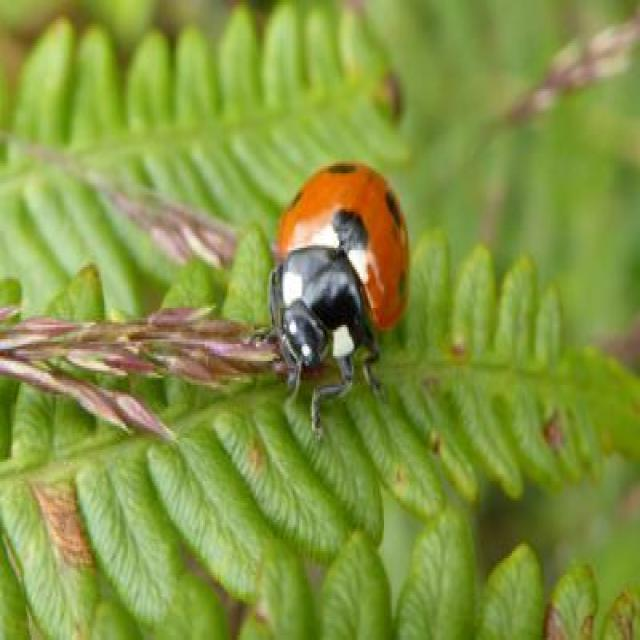body: (274, 170, 406, 363)
insect: (269, 162, 412, 434)
legs: (308, 335, 392, 429)
mouthpart: (272, 331, 304, 385)
wings: (271, 165, 413, 328)
